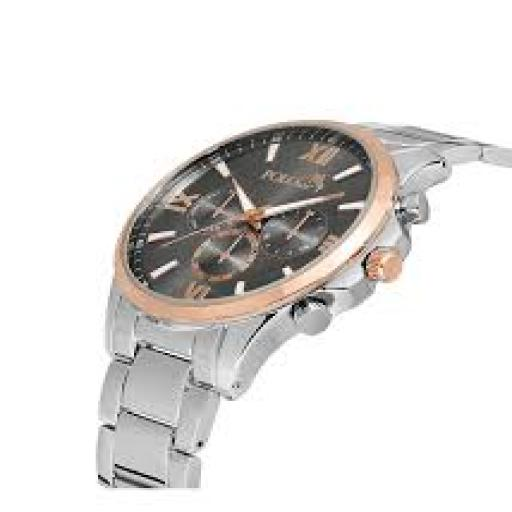KolSaati: (33, 54, 512, 497)
